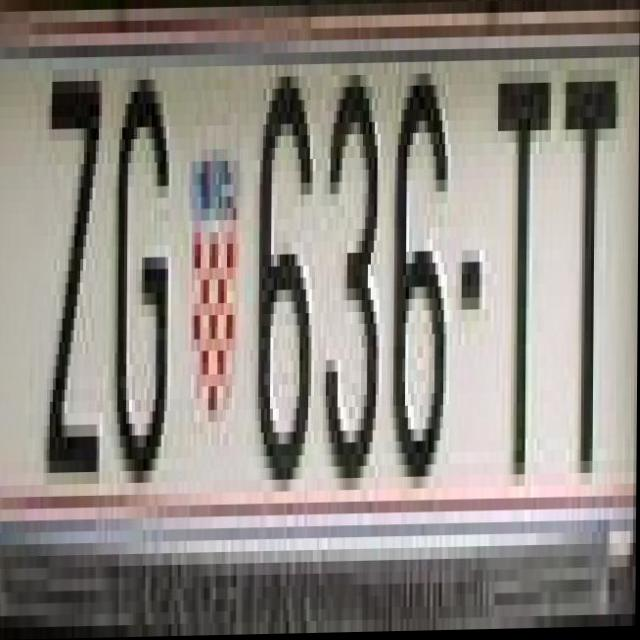3: (317, 40, 382, 492)
6: (385, 75, 458, 491), (253, 77, 316, 494)
G: (118, 68, 173, 472)
T: (490, 73, 555, 489), (561, 60, 619, 500)
Z: (41, 46, 112, 450)
